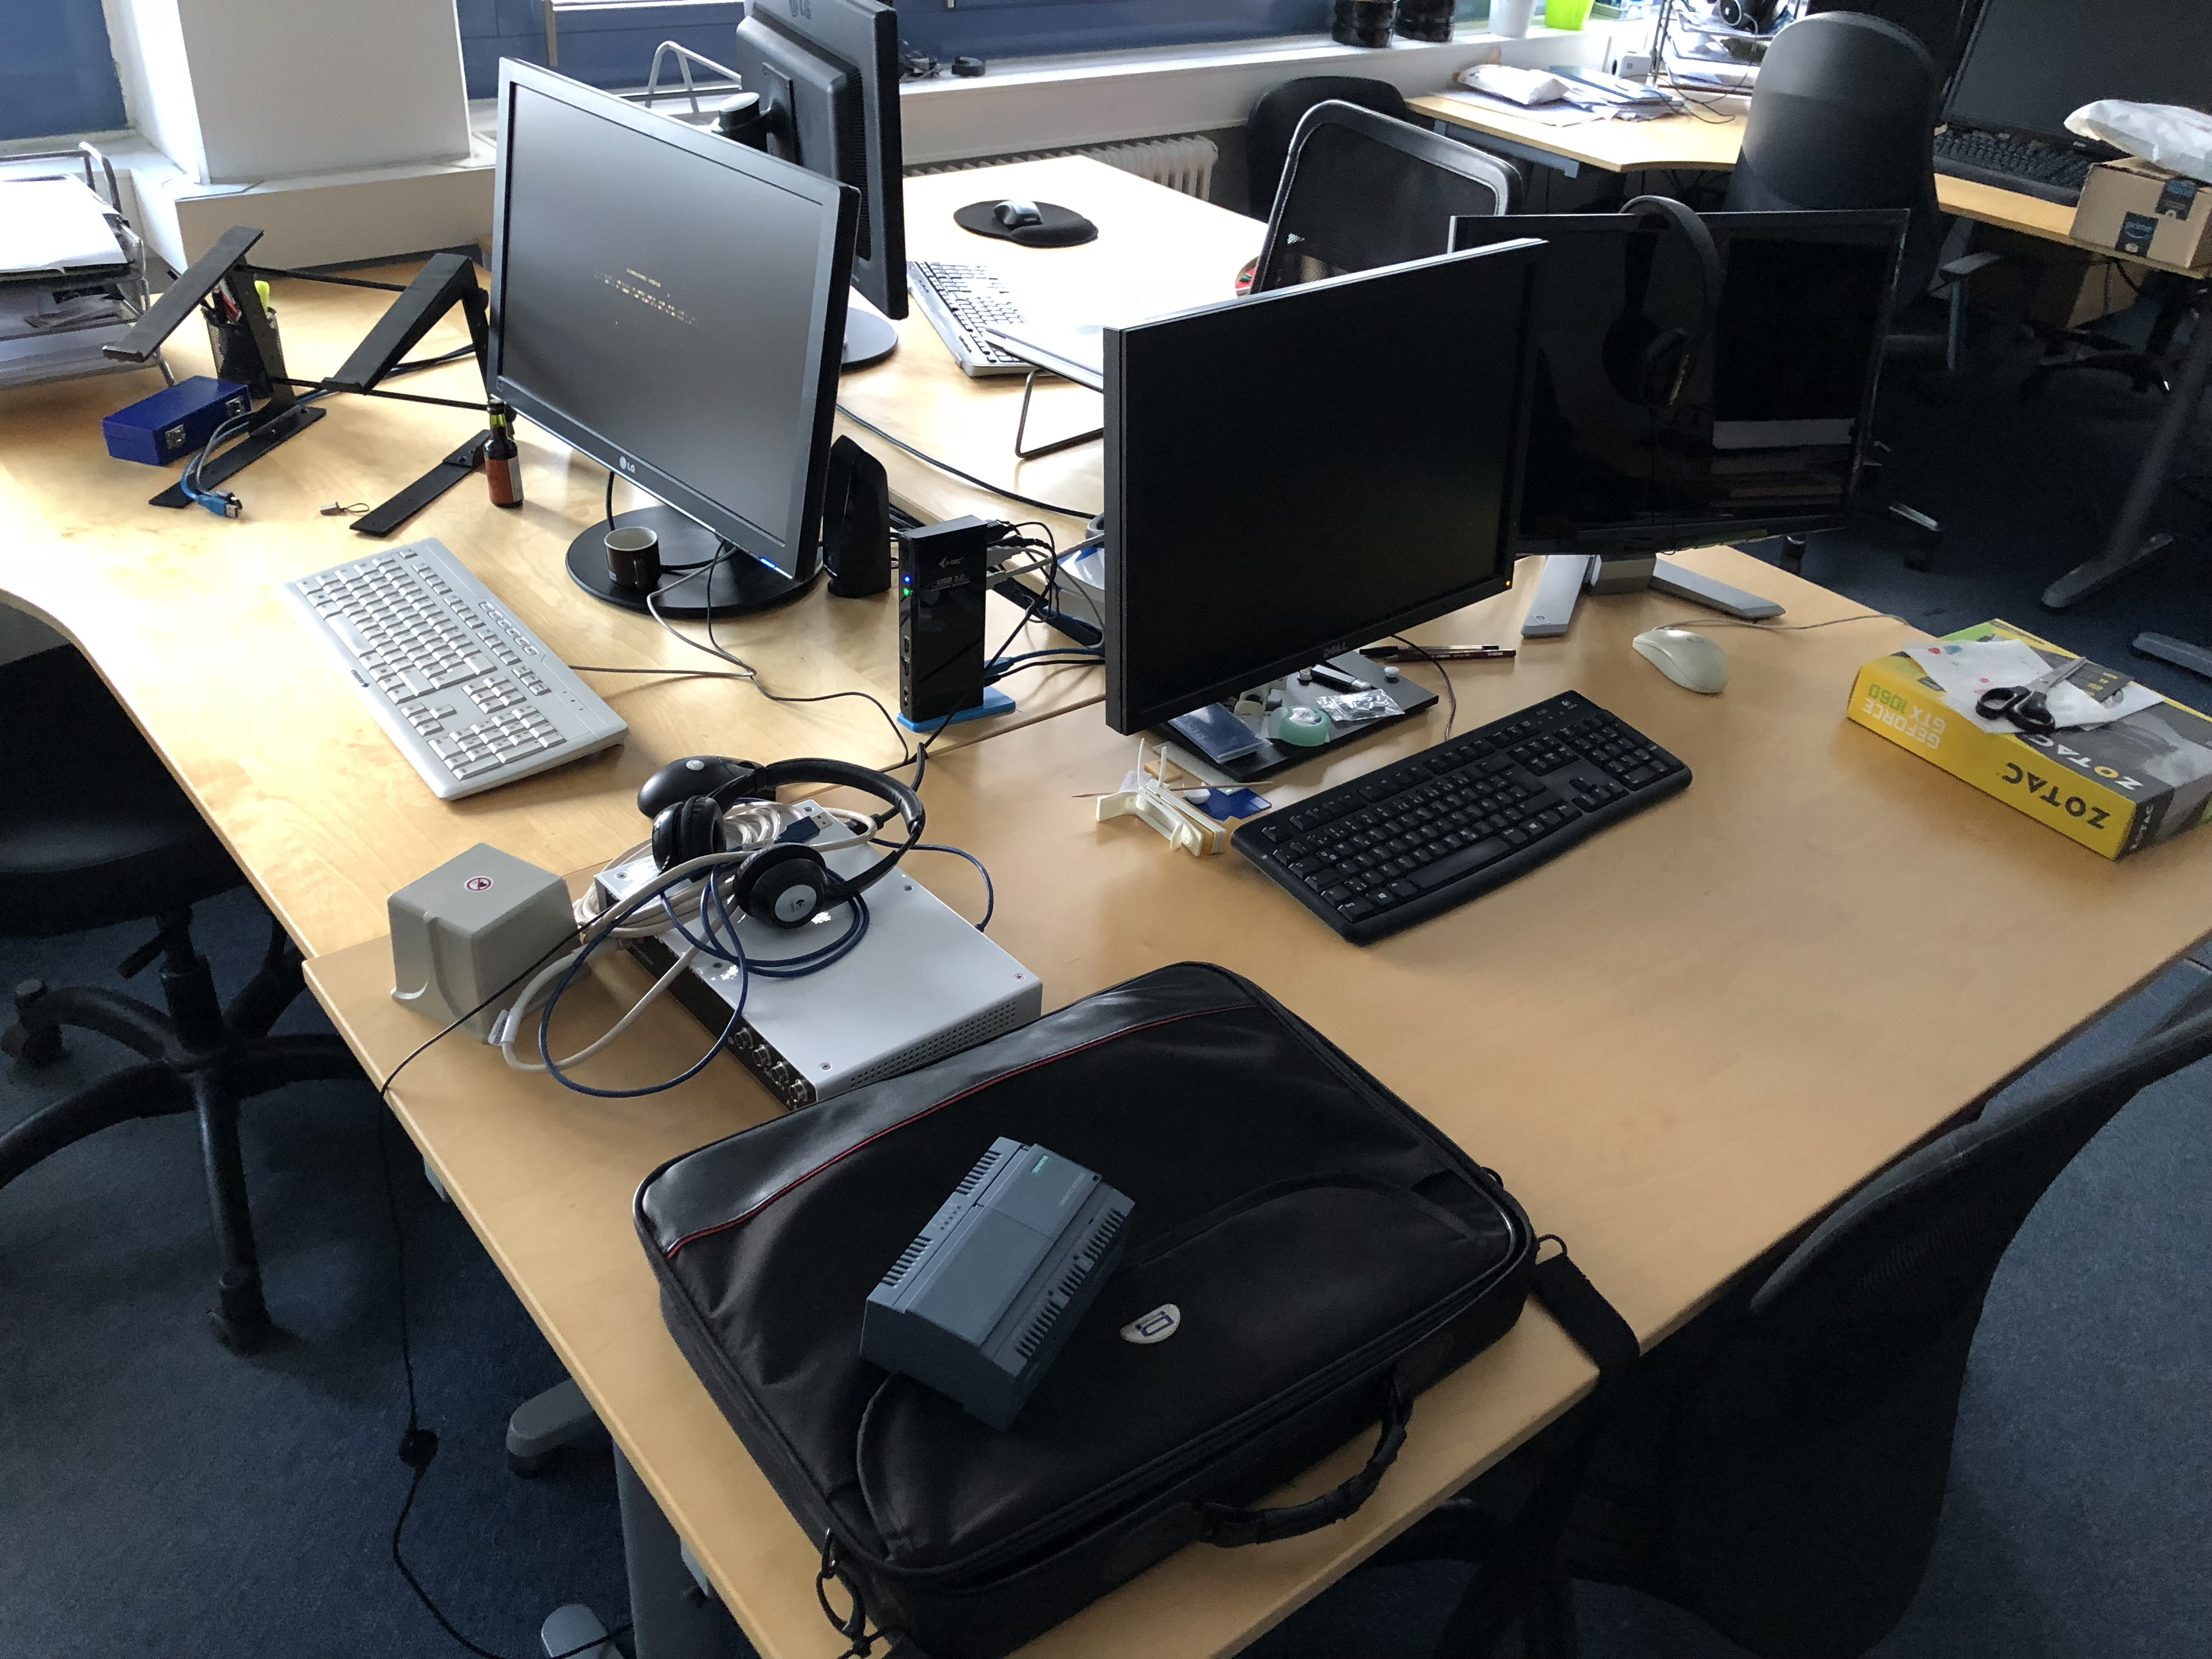device: (859, 1136, 1136, 1434)
